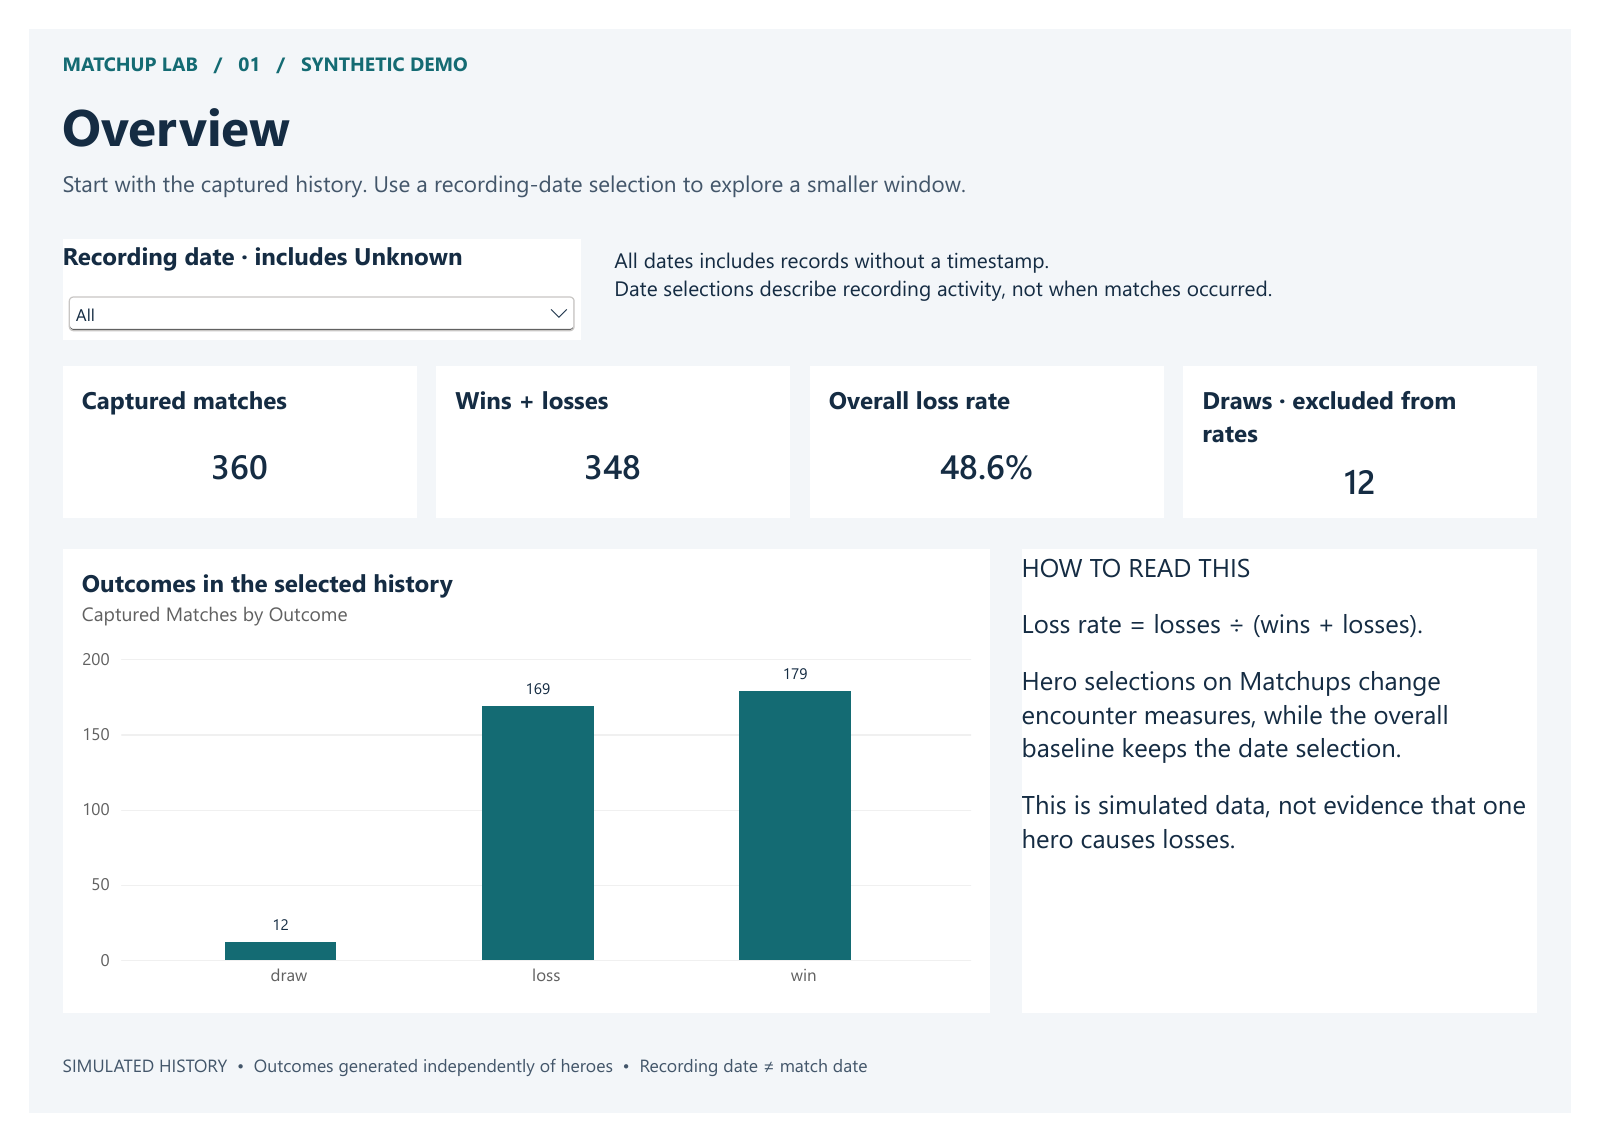

This screenshot's page, from the dashboard's own definition file:
{"tool":"powerbi","page":{"name":"Overview","canvas":[1280,900],"ordinal":0},"visuals":[{"type":"textbox","box":[28,18,1224,30],"z":0},{"type":"textbox","box":[28,52,1224,60],"z":1},{"type":"textbox","box":[28,116,1224,50],"z":2},{"type":"textbox","box":[28,850,1224,40],"z":3},{"type":"slicer","title":"Recording date  ·  includes Unknown","fields":{"Values":["RecordingDate.RecordingDateKey"]},"box":[28,174,430,84],"z":4},{"type":"textbox","box":[486,180,766,74],"z":5},{"type":"card","title":"Captured matches","fields":{"Values":["Matches.Captured Matches"]},"box":[28,280,294,126],"z":6},{"type":"card","title":"Wins + losses","fields":{"Values":["Matches.Decisive Matches"]},"box":[338,280,294,126],"z":7},{"type":"card","title":"Overall loss rate","fields":{"Values":["Matches.Overall Loss Rate"]},"box":[648,280,294,126],"z":8},{"type":"card","title":"Draws · excluded from rates","fields":{"Values":["Matches.Draws"]},"box":[958,280,294,126],"z":9},{"type":"clusteredColumnChart","title":"Outcomes in the selected history","fields":{"Category":["Matches.Outcome"],"Y":["Matches.Captured Matches"]},"box":[28,432,770,385],"z":10},{"type":"textbox","box":[824,432,428,385],"z":11}]}

Visuals, with their boxes in screenshot pixels (x1, y1, x2, y2), scaled from the page's 1280x900 canvas onto the 1600x1143 screenshot:
textbox: [35,23,1565,61]
textbox: [35,66,1565,142]
textbox: [35,147,1565,211]
textbox: [35,1080,1565,1130]
"Recording date  ·  includes Unknown" slicer: [35,221,572,328]
textbox: [608,229,1565,323]
"Captured matches" card: [35,356,402,516]
"Wins + losses" card: [422,356,790,516]
"Overall loss rate" card: [810,356,1178,516]
"Draws · excluded from rates" card: [1198,356,1565,516]
"Outcomes in the selected history" clusteredColumnChart: [35,549,998,1038]
textbox: [1030,549,1565,1038]
